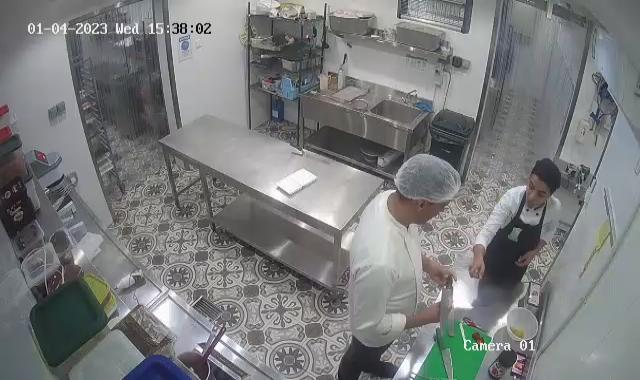hairnet: (396, 151, 461, 212)
no_hairnet: (530, 158, 562, 203)
